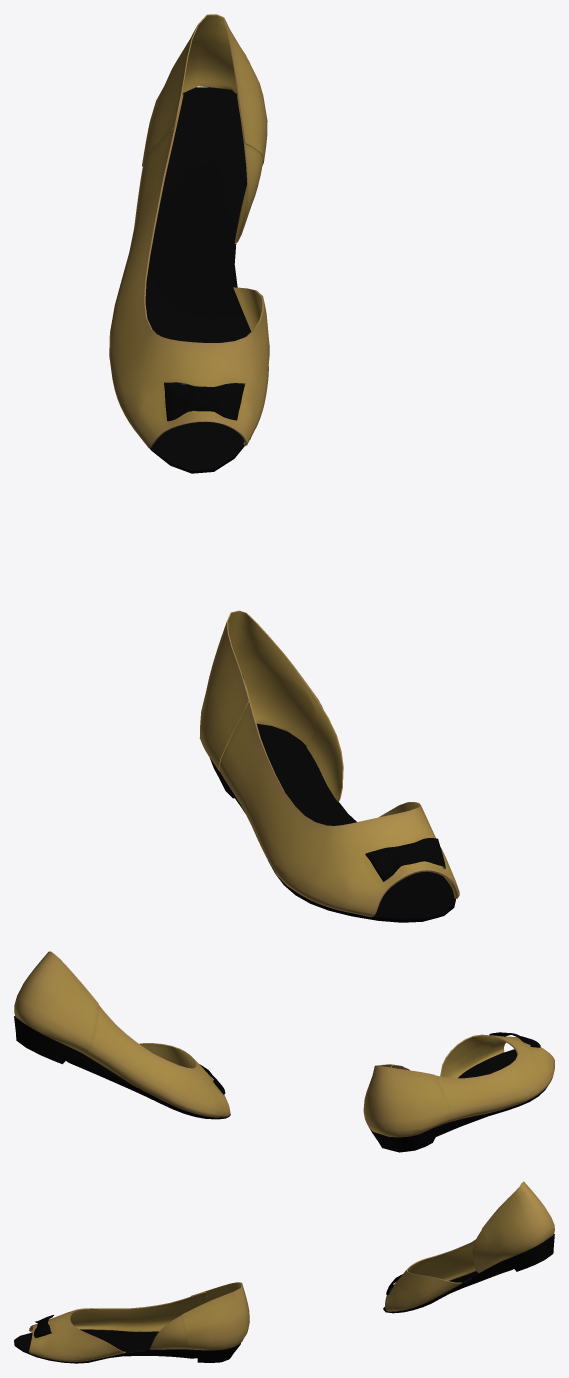
The model's file is BellyI.fbx.
The picture shows the model from 3 angles, top to bottom: view 1: azimuth 30°, elevation 25°; view 2: azimuth 150°, elevation 25°; view 3: azimuth 270°, elevation 25°; orthographic projection. The views are drawn at different scales.
Parts seen in each view (by area): view 1: BellyI; view 2: BellyI; view 3: BellyI.
Part boxes in pixels (left/top/right/bottom): BellyI: left=109, top=14, right=459, bottom=922; BellyI: left=14, top=951, right=554, bottom=1152; BellyI: left=14, top=1181, right=554, bottom=1363.
Bounding box in the file's own units: 27.2 × 30.14 × 62.08.
